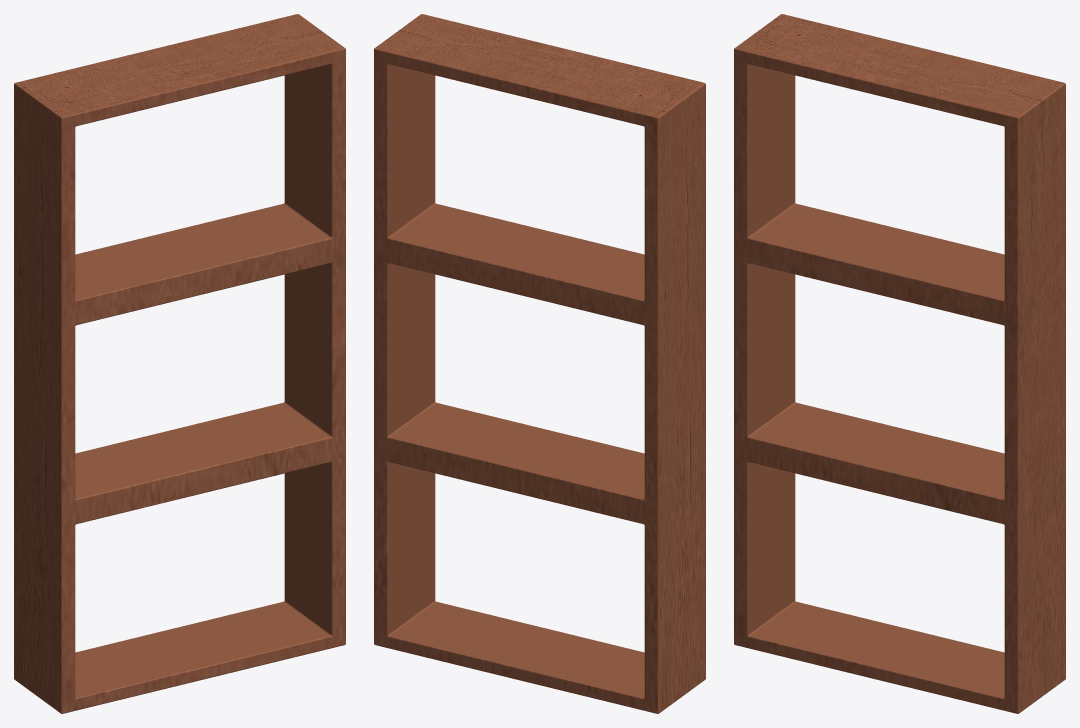
The model's file is cabinet.obj.
The picture shows the model from 3 angles, left to right: view 1: azimuth 30°, elevation 25°; view 2: azimuth 150°, elevation 25°; view 3: azimuth 330°, elevation 25°; orthographic projection.
Parts seen in each view (by area): view 1: witch's_house.002; view 2: witch's_house.002; view 3: witch's_house.002.
Boxes of the visible parts, <box> form: witch's_house.002: <box>14,14,345,713</box>; witch's_house.002: <box>374,14,705,713</box>; witch's_house.002: <box>734,14,1065,713</box>.
Size of the model in its own units: 1.25 by 2.51 by 0.3643.
1 material, 1 textured.
